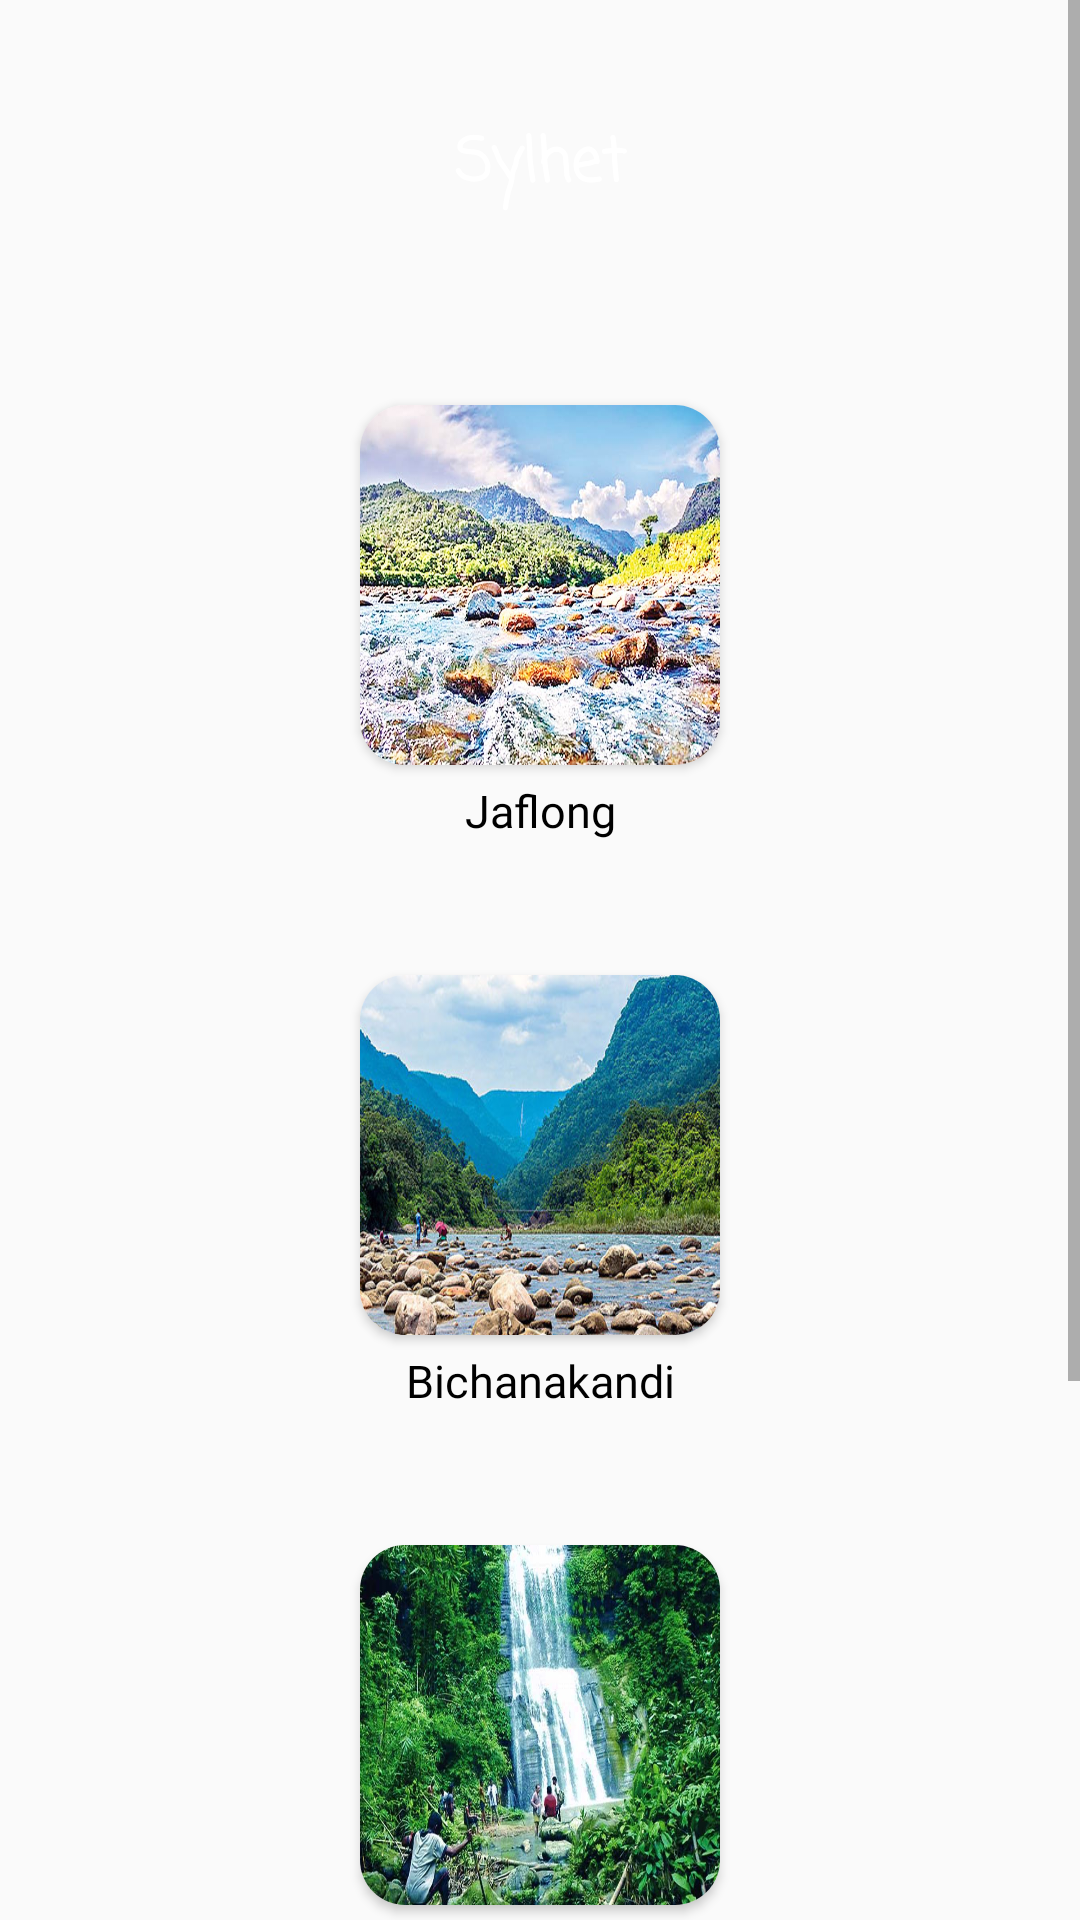

Point at icon controls on the screen. Image size 1080w x 1920h, points as point (x, y).
hamham jhorna: point (540, 1725)
